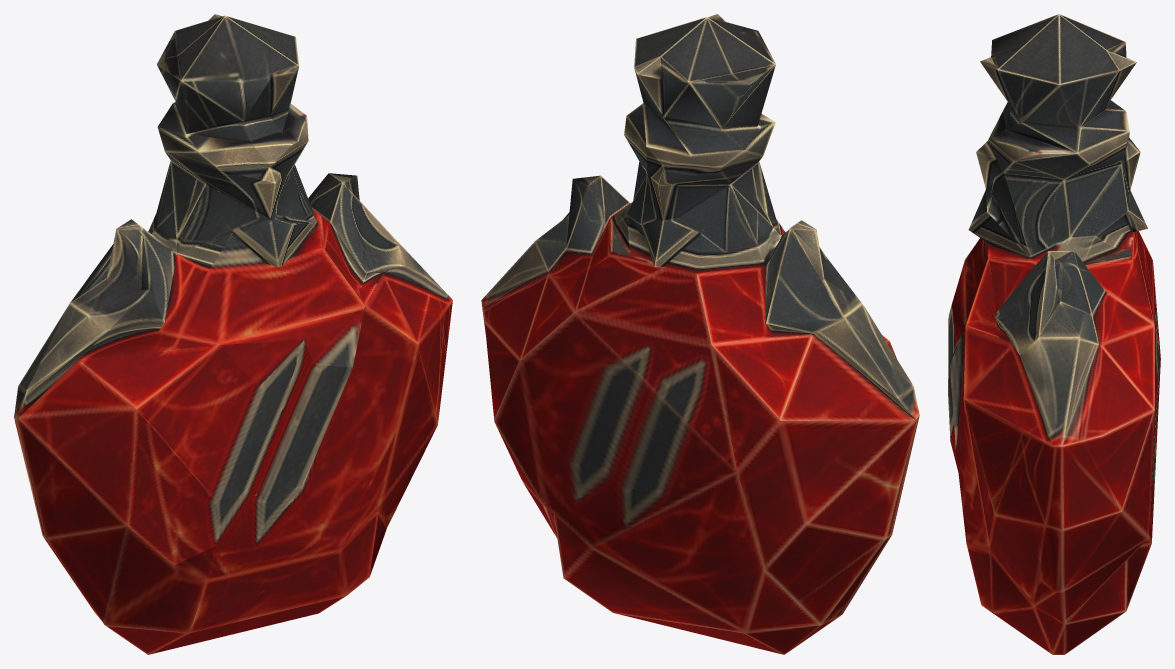
File: SM_Flask_Berserker.fbx
3 views of the same model, side by side, from view 1: azimuth 30°, elevation 25°; view 2: azimuth 150°, elevation 25°; view 3: azimuth 270°, elevation 25° (orthographic). The views are drawn at different scales.
Visible parts, largest first — view 1: SM_Flask_Berserker; view 2: SM_Flask_Berserker; view 3: SM_Flask_Berserker.
Part boxes in pixels (x1,y1,x2,y2): SM_Flask_Berserker: (14, 14, 452, 654); SM_Flask_Berserker: (481, 14, 919, 654); SM_Flask_Berserker: (948, 14, 1160, 654).
Bounding box in the file's own units: 29.45 × 40 × 12.9.
